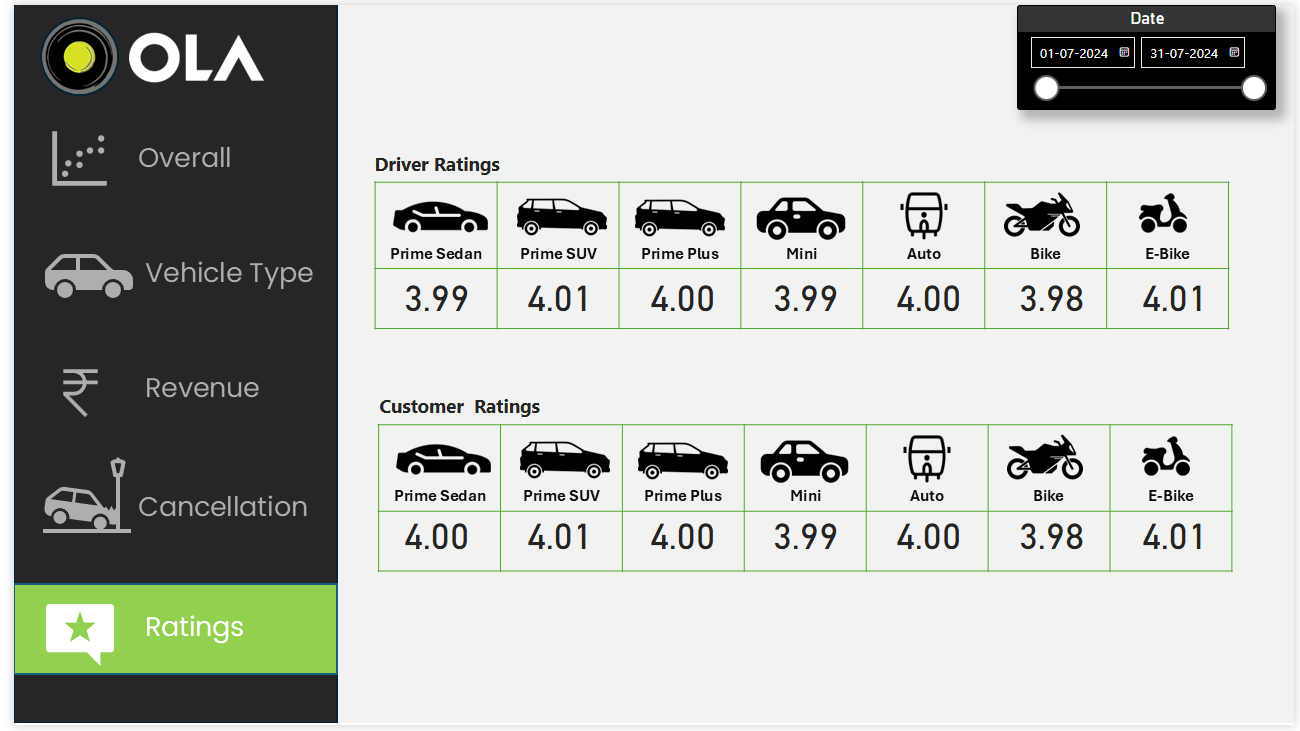

What the dashboard file says about the page in this screenshot:
{"tool":"powerbi","page":{"name":"Ratings","canvas":[1280,720],"ordinal":3},"visuals":[{"type":"actionButton","box":[0,224.4,324.1,90.7],"z":0},{"type":"actionButton","box":[0,341.1,324.1,93.4],"z":1000},{"type":"actionButton","box":[0,448.9,324.1,92.5],"z":2000},{"type":"actionButton","box":[0,109.5,324.1,87.1],"z":3000},{"type":"card","fields":{"Values":["Avg(Bookiings.Driver_Ratings)"]},"box":[361,257,123,65],"z":4000},{"type":"card","fields":{"Values":["Avg(Bookiings.Driver_Ratings)"]},"box":[484,257,123,65],"z":5000},{"type":"card","fields":{"Values":["Avg(Bookiings.Driver_Ratings)"]},"box":[607,257,123,65],"z":6000},{"type":"card","fields":{"Values":["Avg(Bookiings.Driver_Ratings)"]},"box":[730,257,123,65],"z":7000},{"type":"card","fields":{"Values":["Avg(Bookiings.Driver_Ratings)"]},"box":[853,257,123,65],"z":8000},{"type":"card","fields":{"Values":["Avg(Bookiings.Driver_Ratings)"]},"box":[976,257,123,65],"z":9000},{"type":"card","fields":{"Values":["Avg(Bookiings.Driver_Ratings)"]},"box":[1099,257,123,65],"z":10000},{"type":"textbox","box":[342,141,162,35],"z":11000},{"type":"textbox","box":[348,383,195,46],"z":12000},{"type":"card","fields":{"Values":["Avg(Bookiings.Customer_Rating)"]},"box":[361,495,123,65],"z":12001},{"type":"card","fields":{"Values":["Avg(Bookiings.Driver_Ratings)"]},"box":[484,495,123,65],"z":12002},{"type":"card","fields":{"Values":["Avg(Bookiings.Driver_Ratings)"]},"box":[607,495,123,65],"z":12003},{"type":"card","fields":{"Values":["Avg(Bookiings.Driver_Ratings)"]},"box":[730,495,123,65],"z":12004},{"type":"card","fields":{"Values":["Avg(Bookiings.Driver_Ratings)"]},"box":[853,495,123,65],"z":12005},{"type":"card","fields":{"Values":["Avg(Bookiings.Driver_Ratings)"]},"box":[976,495,123,65],"z":12006},{"type":"card","fields":{"Values":["Avg(Bookiings.Driver_Ratings)"]},"box":[1099,495,123,65],"z":12007},{"type":"slicer","title":"Date","fields":{"Values":["Bookiings.Date"]},"box":[1003,0,259,105],"z":12008}]}

Visuals, with their boxes in screenshot pixels (x1, y1, x2, y2), scaled from the page's 1280x720 canvas onto the 1300x731 screenshot:
actionButton: (0,228,329,320)
actionButton: (0,346,329,441)
actionButton: (0,456,329,550)
actionButton: (0,111,329,200)
card - Avg(Bookiings.Driver_Ratings): (367,261,492,327)
card - Avg(Bookiings.Driver_Ratings): (492,261,616,327)
card - Avg(Bookiings.Driver_Ratings): (616,261,741,327)
card - Avg(Bookiings.Driver_Ratings): (741,261,866,327)
card - Avg(Bookiings.Driver_Ratings): (866,261,991,327)
card - Avg(Bookiings.Driver_Ratings): (991,261,1116,327)
card - Avg(Bookiings.Driver_Ratings): (1116,261,1241,327)
textbox: (347,143,512,179)
textbox: (353,389,551,436)
card - Avg(Bookiings.Customer_Rating): (367,503,492,569)
card - Avg(Bookiings.Driver_Ratings): (492,503,616,569)
card - Avg(Bookiings.Driver_Ratings): (616,503,741,569)
card - Avg(Bookiings.Driver_Ratings): (741,503,866,569)
card - Avg(Bookiings.Driver_Ratings): (866,503,991,569)
card - Avg(Bookiings.Driver_Ratings): (991,503,1116,569)
card - Avg(Bookiings.Driver_Ratings): (1116,503,1241,569)
"Date" slicer: (1019,0,1282,107)
